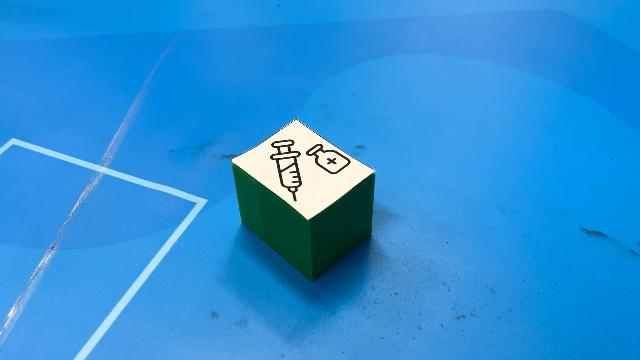syringe: (230, 119, 376, 282)
